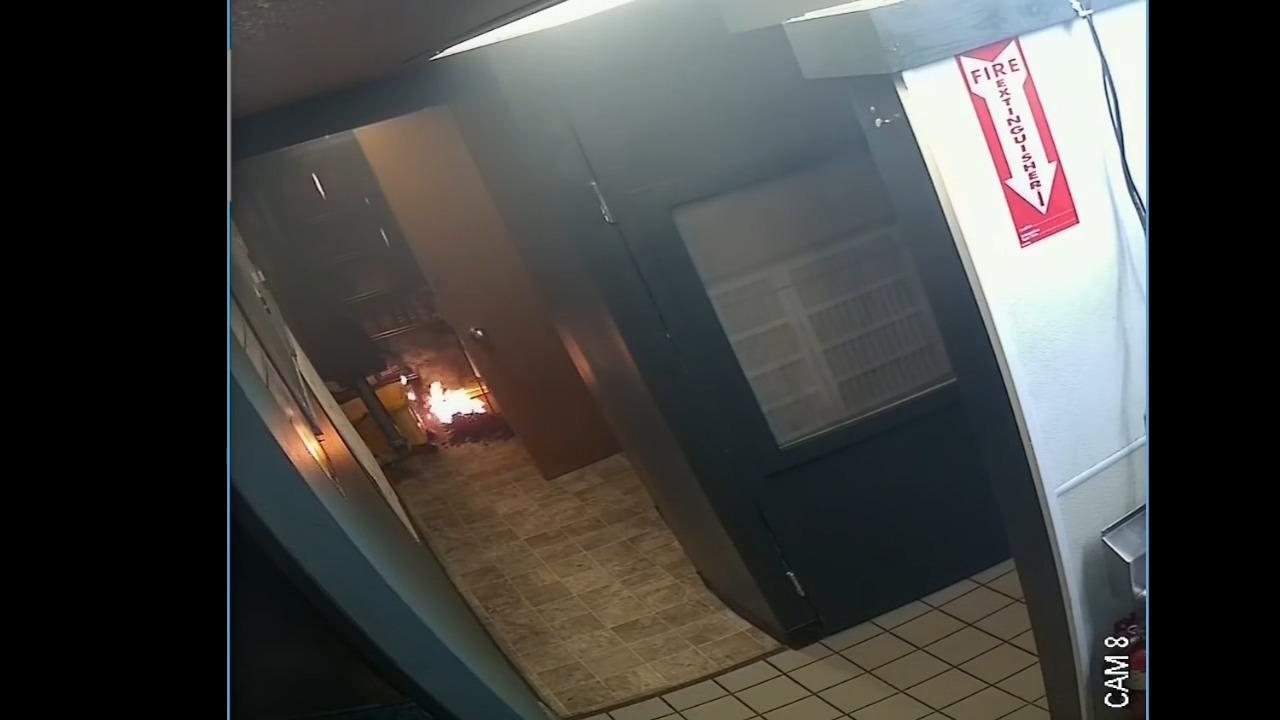fire: (428, 381, 487, 424)
